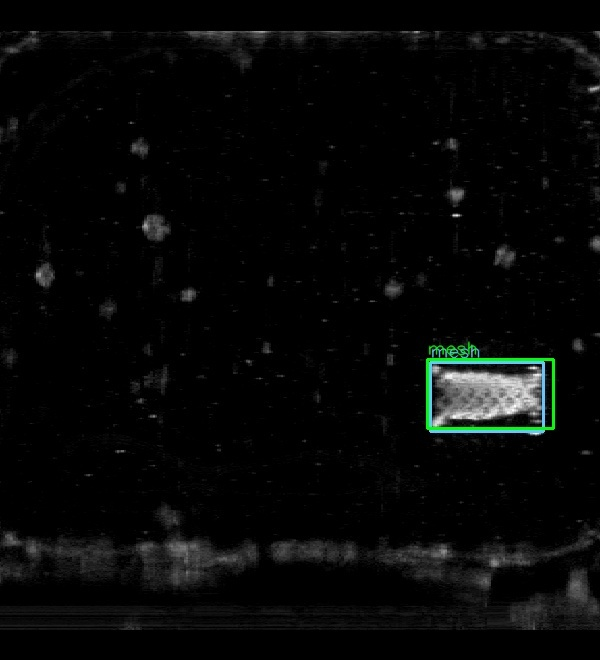mesh: (430, 362, 543, 431)
